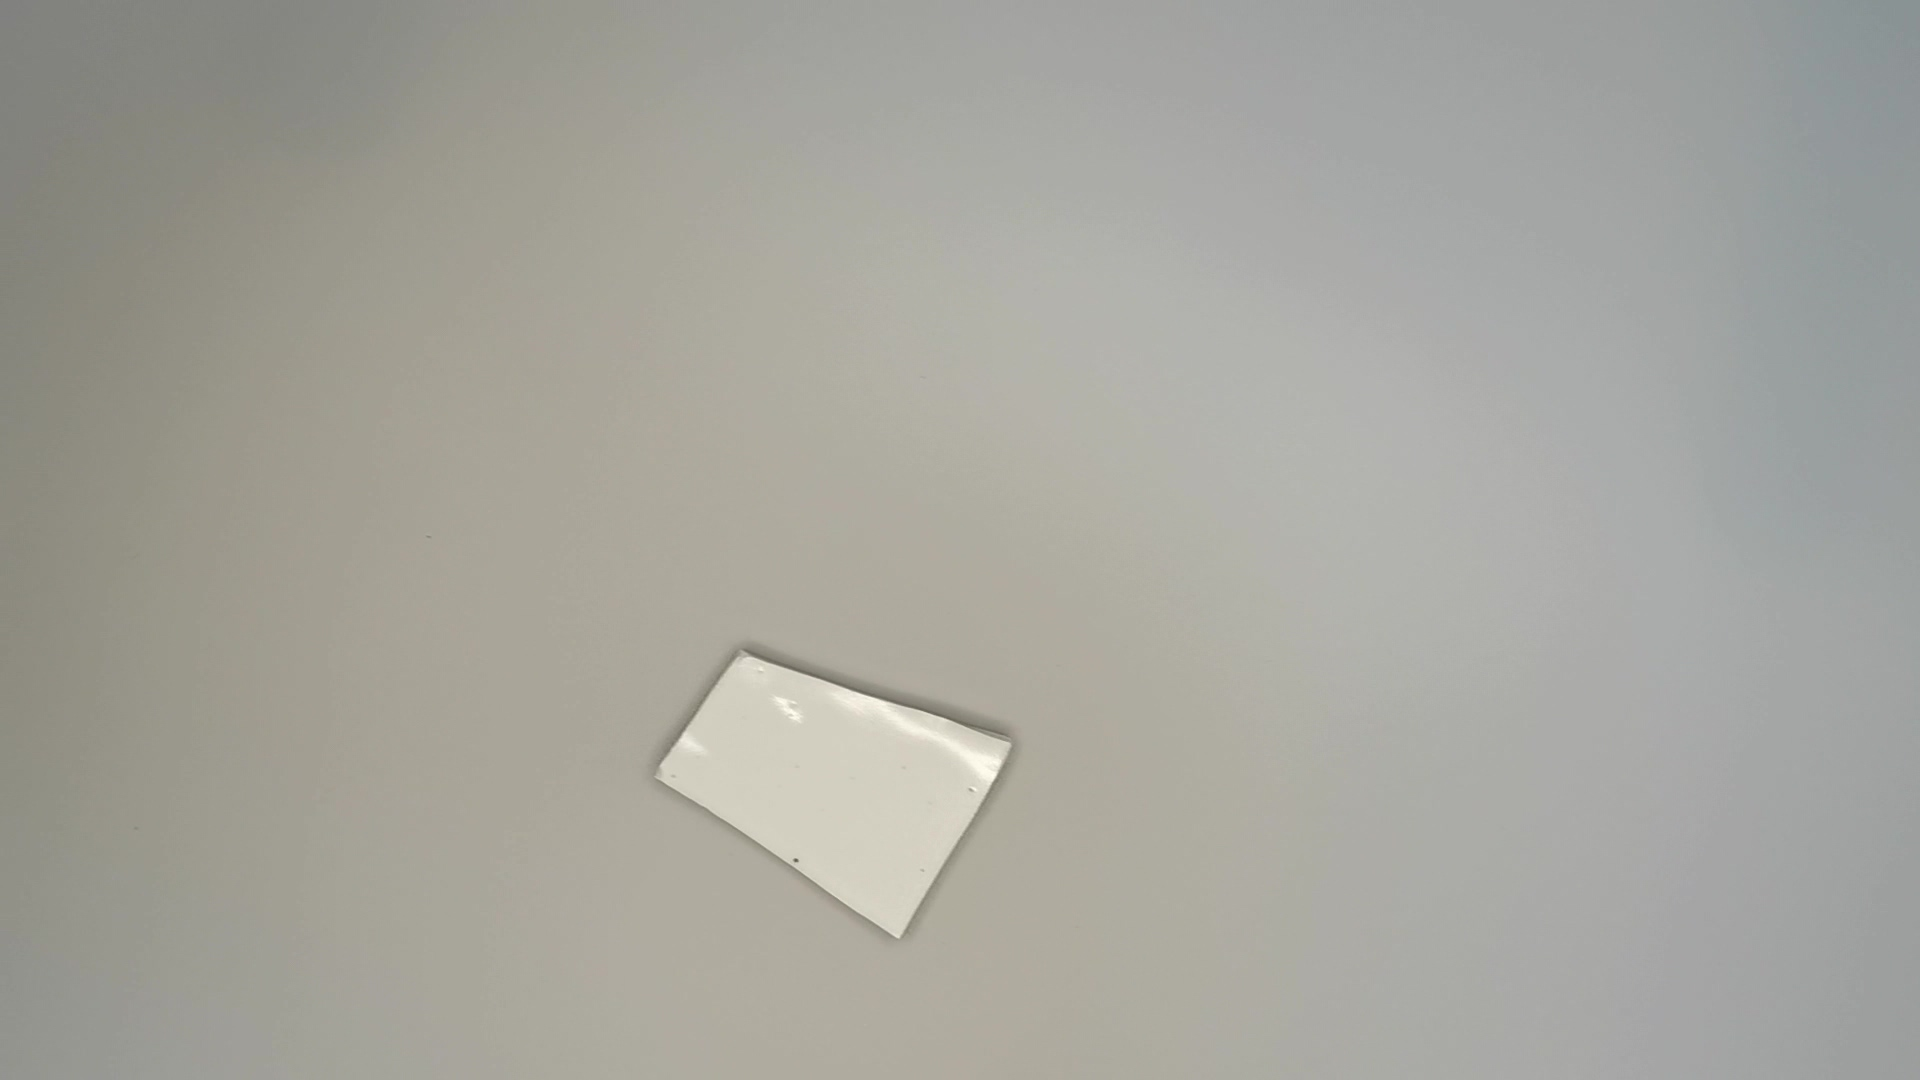ceramic: (655, 649, 1022, 953)
